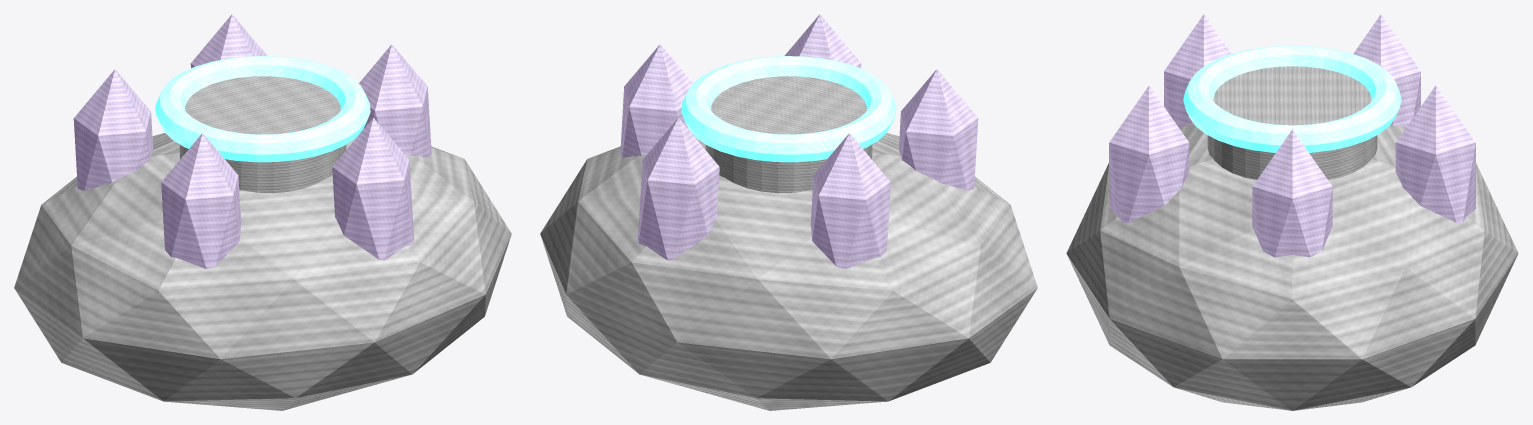
The model's file is resource_well_satellite_variant_b.glb.
3 renders of one model, left to right at view 1: azimuth 30°, elevation 25°; view 2: azimuth 150°, elevation 25°; view 3: azimuth 270°, elevation 25°, orthographic.
Visible parts, largest first — view 1: Satellite geological base.001, Socket energy ring.002, Extraction socket.001, Mineral crystal.009, Mineral crystal.008, Mineral crystal.007, Mineral crystal.005, Mineral crystal.006; view 2: Satellite geological base.001, Socket energy ring.002, Extraction socket.001, Mineral crystal.006, Mineral crystal.007, Mineral crystal.008, Mineral crystal.005, Mineral crystal.009; view 3: Satellite geological base.001, Socket energy ring.002, Extraction socket.001, Mineral crystal.006, Mineral crystal.009, Mineral crystal.005, Mineral crystal.007, Mineral crystal.008.
Part boxes in pixels (x1,y1,x2,y2): Satellite geological base.001: (14,133,511,410); Socket energy ring.002: (155,56,370,162); Extraction socket.001: (179,76,346,193); Mineral crystal.009: (332,118,413,260); Mineral crystal.008: (161,133,241,268); Mineral crystal.007: (73,69,153,190); Mineral crystal.005: (359,44,431,157); Mineral crystal.006: (190,14,267,68); Satellite geological base.001: (540,133,1037,410); Socket energy ring.002: (681,56,896,162); Extraction socket.001: (705,76,872,193); Mineral crystal.006: (638,118,719,260); Mineral crystal.007: (810,133,890,268); Mineral crystal.008: (898,69,978,190); Mineral crystal.005: (620,44,692,157); Mineral crystal.009: (784,14,861,68); Satellite geological base.001: (1066,124,1518,410); Socket energy ring.002: (1183,45,1401,152); Extraction socket.001: (1207,66,1377,179); Mineral crystal.006: (1395,85,1475,222); Mineral crystal.009: (1109,85,1189,222); Mineral crystal.005: (1252,129,1332,257); Mineral crystal.007: (1353,14,1420,127); Mineral crystal.008: (1164,14,1231,127).
Size of what is drawn, in the model's own units: 2.66 by 1.8 by 2.4.
4 materials, 4 textured.
